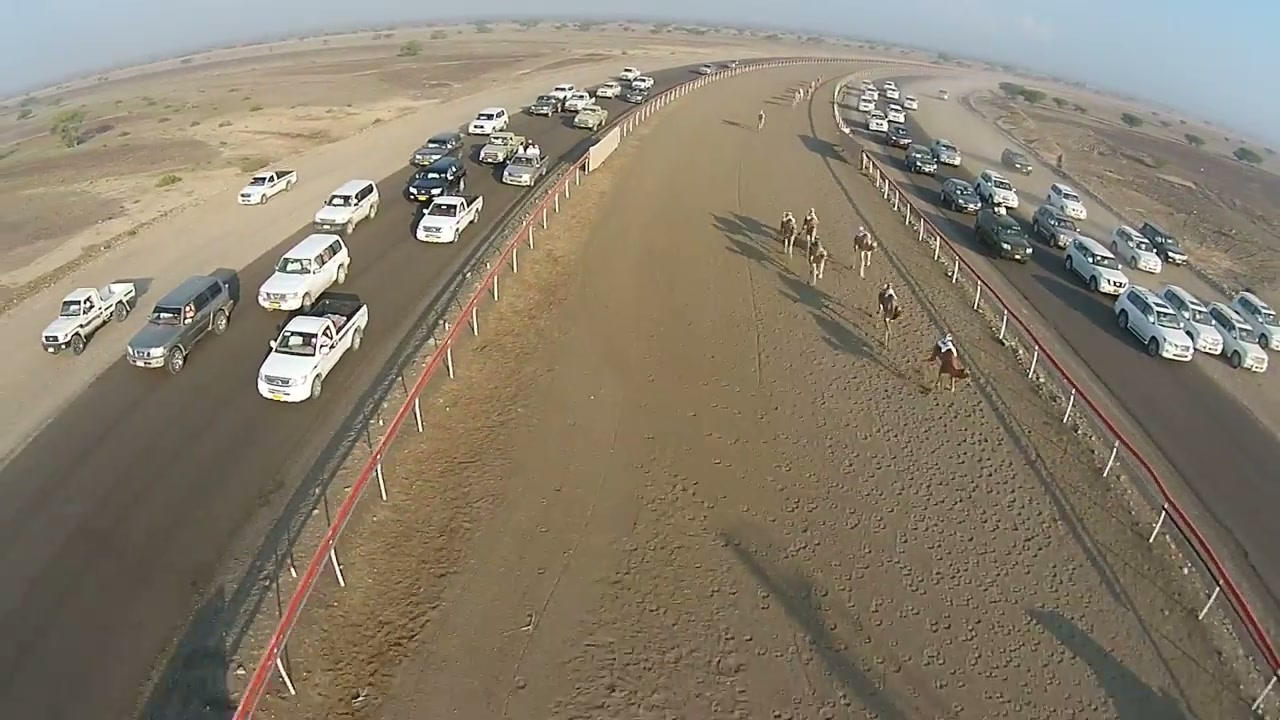animal_footprint: (802, 277, 1119, 719)
